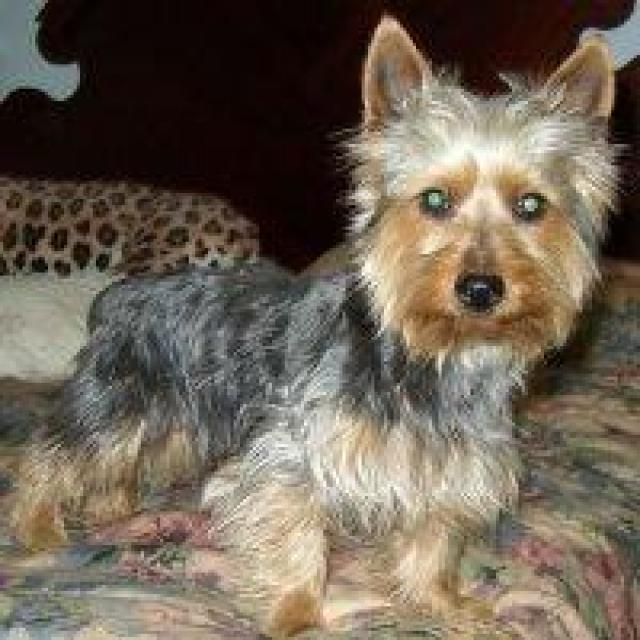dog: (31, 9, 632, 637)
